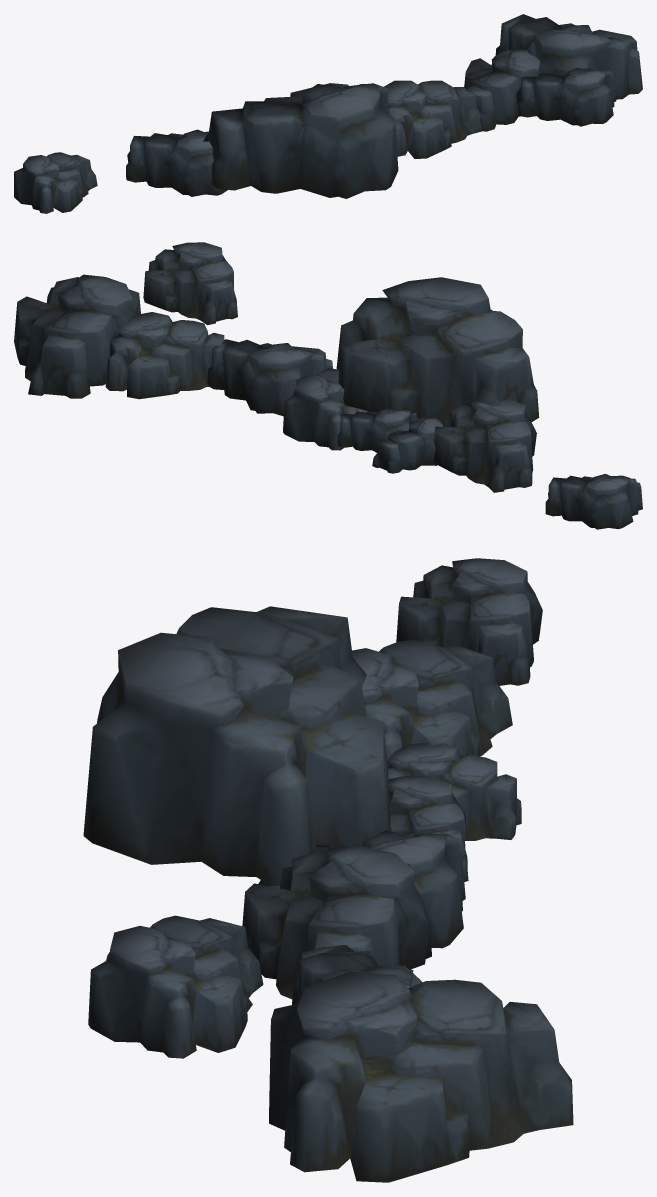
File: Area_15_12.fbx
3 views of the same model, one above another, from view 1: azimuth 30°, elevation 25°; view 2: azimuth 150°, elevation 25°; view 3: azimuth 270°, elevation 25° (orthographic). The views are drawn at different scales.
Parts seen in each view (by area): view 1: Area_15_12; view 2: Area_15_12; view 3: Area_15_12.
Part boxes in pixels (left/top/right/bottom): Area_15_12: left=14, top=14, right=642, bottom=213; Area_15_12: left=14, top=242, right=642, bottom=529; Area_15_12: left=83, top=558, right=573, bottom=1182.
Size of the model in its own units: 7277 by 1181 by 2619.
